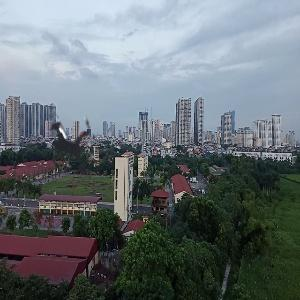drone: (16, 89, 133, 206)
